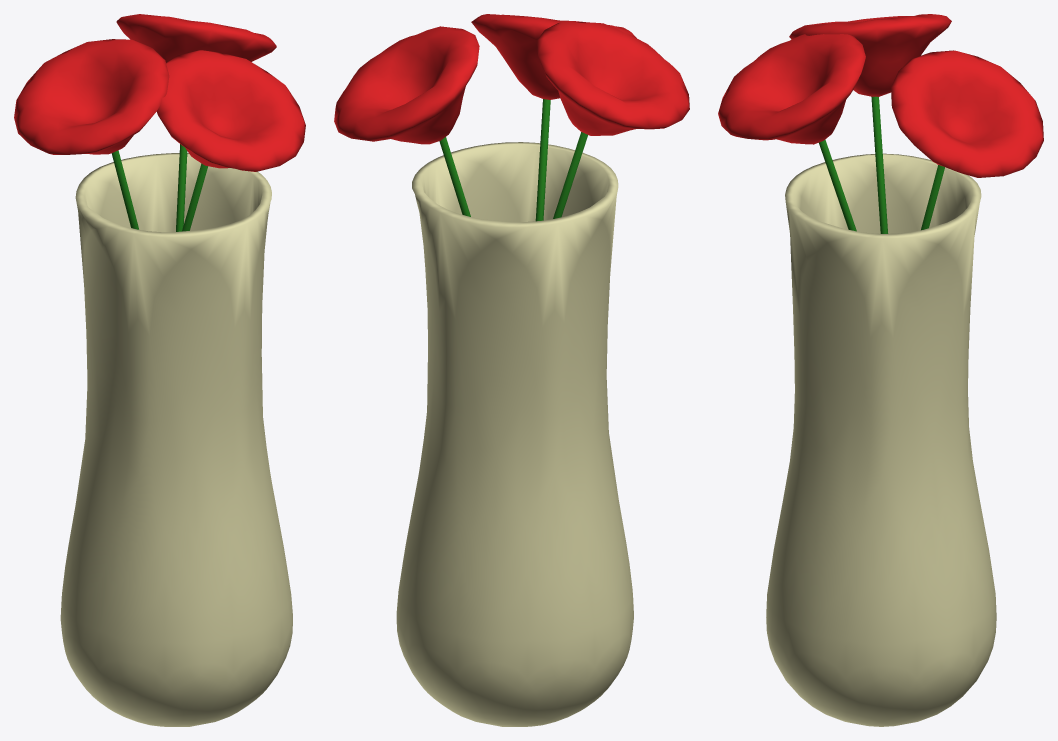
The model's file is Vaze.fbx.
The picture shows the model from 3 angles, left to right: view 1: azimuth 30°, elevation 25°; view 2: azimuth 150°, elevation 25°; view 3: azimuth 270°, elevation 25°; orthographic projection. The views are drawn at different scales.
Parts seen in each view (by area): view 1: Icosphere, Icosphere.003, Icosphere.002, Icosphere.001, Cylinder, Cylinder.002, Cylinder.001; view 2: Icosphere, Icosphere.003, Icosphere.001, Icosphere.002, Cylinder.001, Cylinder.002, Cylinder; view 3: Icosphere, Icosphere.001, Icosphere.002, Icosphere.003, Cylinder.002, Cylinder.001, Cylinder.
Part boxes in pixels (left/top/right/bottom): Icosphere: left=60, top=153, right=292, bottom=726; Icosphere.003: left=14, top=39, right=169, bottom=154; Icosphere.002: left=156, top=50, right=305, bottom=171; Icosphere.001: left=116, top=14, right=276, bottom=62; Cylinder: left=176, top=144, right=187, bottom=231; Cylinder.002: left=111, top=150, right=138, bottom=229; Cylinder.001: left=182, top=163, right=207, bottom=231; Icosphere: left=396, top=142, right=633, bottom=726; Icosphere.003: left=537, top=22, right=689, bottom=135; Icosphere.001: left=334, top=26, right=479, bottom=144; Icosphere.002: left=471, top=14, right=636, bottom=99; Cylinder.001: left=535, top=99, right=550, bottom=221; Cylinder.002: left=553, top=132, right=587, bottom=218; Cylinder: left=439, top=137, right=470, bottom=216; Icosphere: left=766, top=153, right=996, bottom=726; Icosphere.001: left=891, top=50, right=1043, bottom=177; Icosphere.002: left=718, top=34, right=865, bottom=144; Icosphere.003: left=789, top=14, right=951, bottom=96; Cylinder.002: left=871, top=96, right=888, bottom=233; Cylinder.001: left=819, top=139, right=856, bottom=231; Cylinder: left=921, top=165, right=944, bottom=230.
Bounding box in the file's own units: 256 × 578 × 256.
